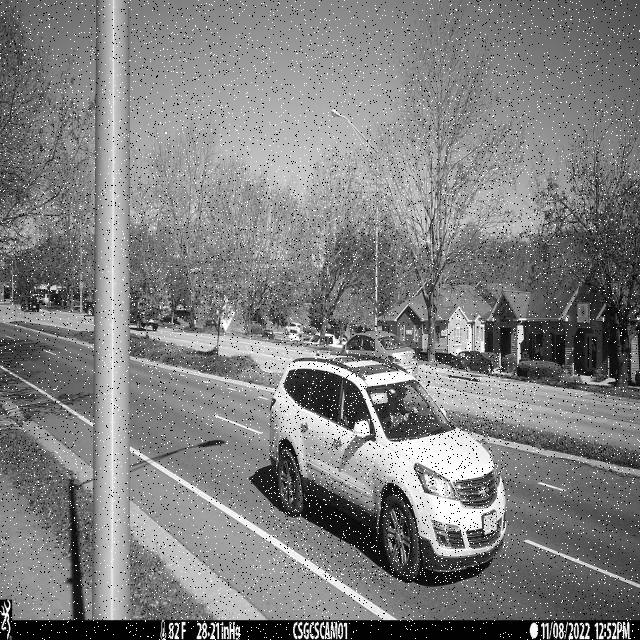SUV: (269, 352, 509, 583)
